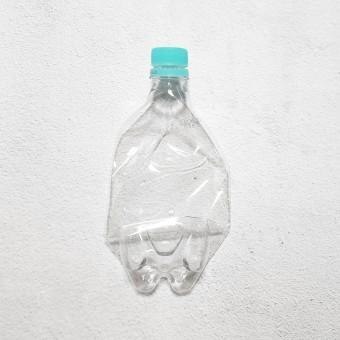bottle: (103, 47, 232, 296)
